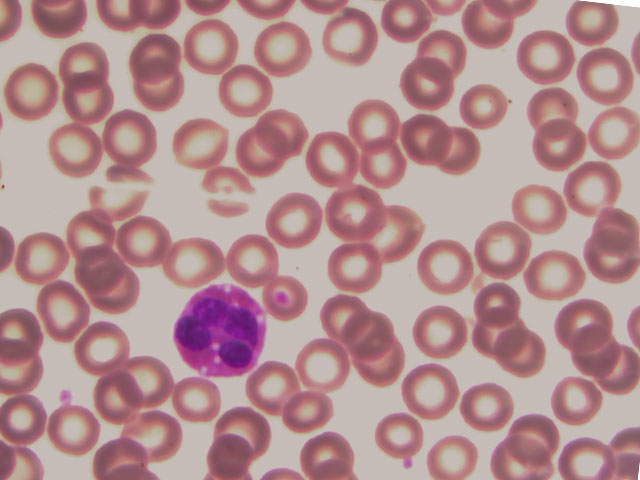Platelets: (57, 384, 75, 403)
RBC: (3, 61, 58, 120), (60, 36, 110, 86), (61, 74, 111, 124), (51, 126, 101, 176), (102, 110, 152, 160), (97, 165, 147, 215), (65, 208, 115, 258), (16, 230, 66, 280), (41, 285, 91, 335), (75, 322, 125, 372), (90, 372, 140, 422), (129, 354, 179, 404), (169, 373, 219, 423), (132, 407, 182, 457), (47, 403, 97, 453), (119, 216, 169, 266), (73, 246, 123, 296), (99, 266, 149, 316), (168, 236, 218, 286), (224, 234, 274, 284), (203, 169, 253, 219), (174, 117, 224, 167), (134, 67, 184, 117), (131, 30, 181, 80), (186, 19, 236, 69), (220, 64, 270, 114), (264, 105, 314, 155), (234, 128, 284, 178), (308, 134, 358, 184), (348, 98, 398, 148), (359, 138, 409, 188), (332, 190, 382, 240), (271, 195, 321, 245), (328, 243, 378, 293), (370, 209, 420, 259), (420, 243, 470, 293), (437, 126, 487, 176), (405, 114, 455, 164), (399, 58, 449, 108), (420, 28, 470, 78), (323, 13, 373, 63), (261, 24, 311, 74), (519, 31, 569, 81), (459, 82, 509, 132), (517, 183, 567, 233), (480, 224, 530, 274), (470, 273, 520, 323), (415, 306, 465, 356), (317, 293, 367, 343), (350, 309, 400, 359), (363, 336, 413, 386), (299, 339, 349, 389), (245, 363, 295, 413), (287, 385, 337, 435), (217, 402, 267, 452), (204, 430, 254, 480), (305, 426, 355, 476), (372, 408, 422, 458), (406, 367, 456, 417), (501, 328, 551, 378), (475, 315, 525, 365), (561, 299, 611, 349), (533, 252, 583, 302), (589, 205, 639, 255), (570, 166, 620, 216), (540, 127, 590, 177), (534, 86, 584, 136), (582, 49, 632, 99), (590, 107, 640, 157), (553, 374, 603, 424), (510, 416, 560, 466), (466, 382, 516, 432), (427, 430, 477, 480), (1, 394, 50, 444), (570, 1, 617, 48), (1, 309, 47, 357), (1, 348, 47, 396), (379, 1, 432, 40)
WBC: (173, 285, 269, 377)
